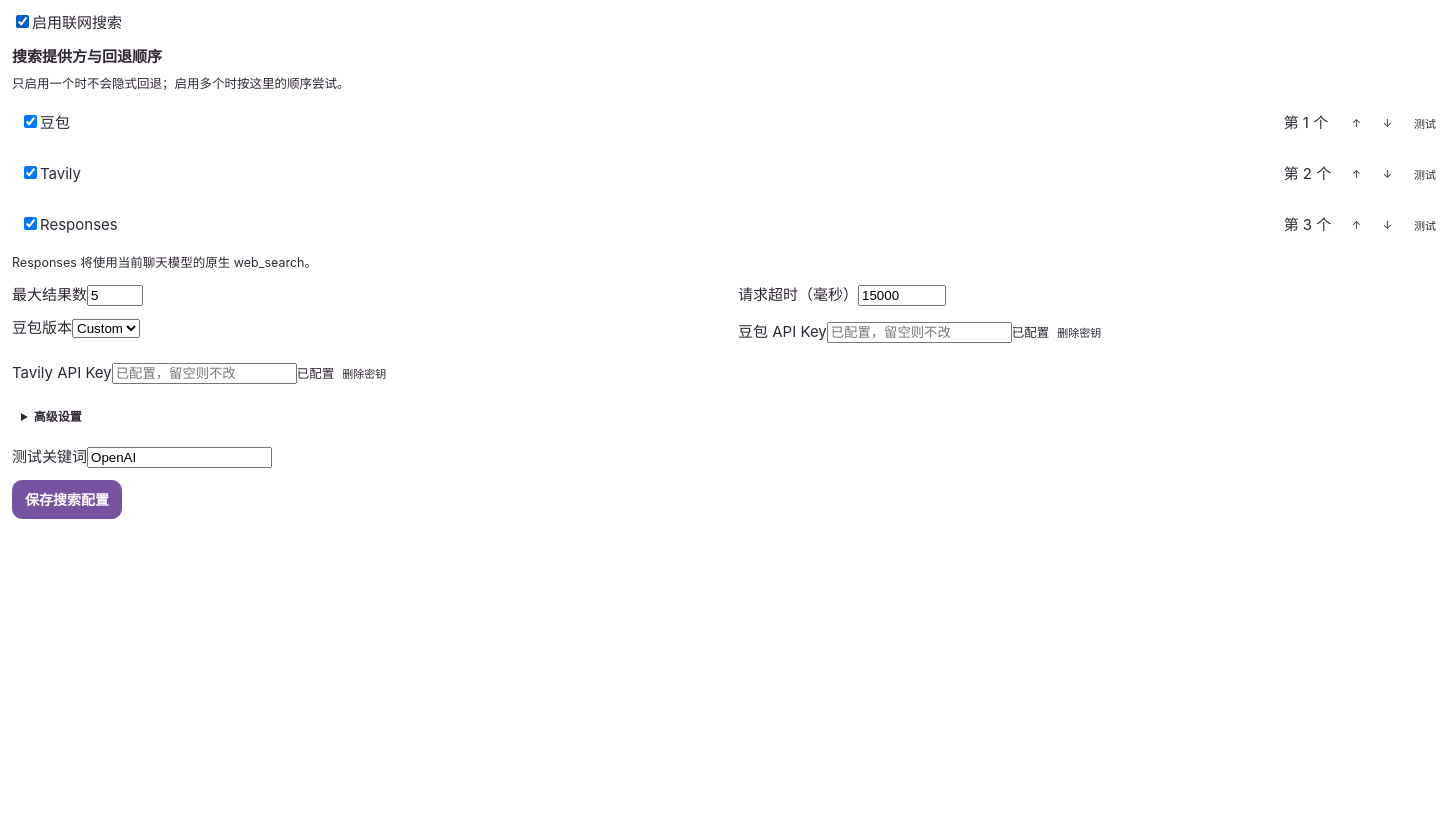
Test: WebSearchModelEditor › tests a saved provider and shows the real result count
The image size is (1452, 822).
Click the button with aria-label "测试豆包". click: (1425, 123)
box: [1406,108,1444,138]
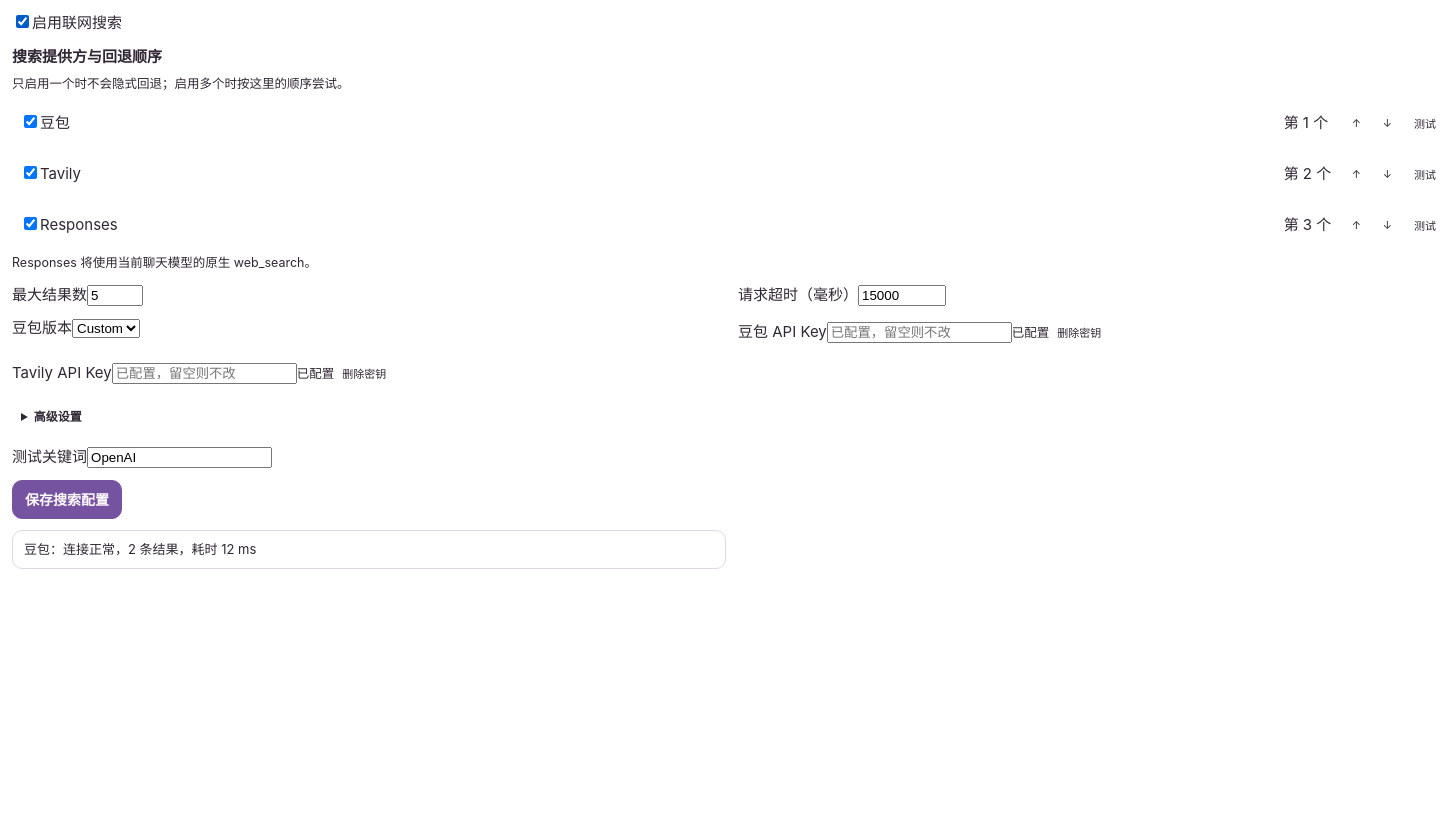
expect the text "2 条结果" is shown: met, box [24,540,256,556]
